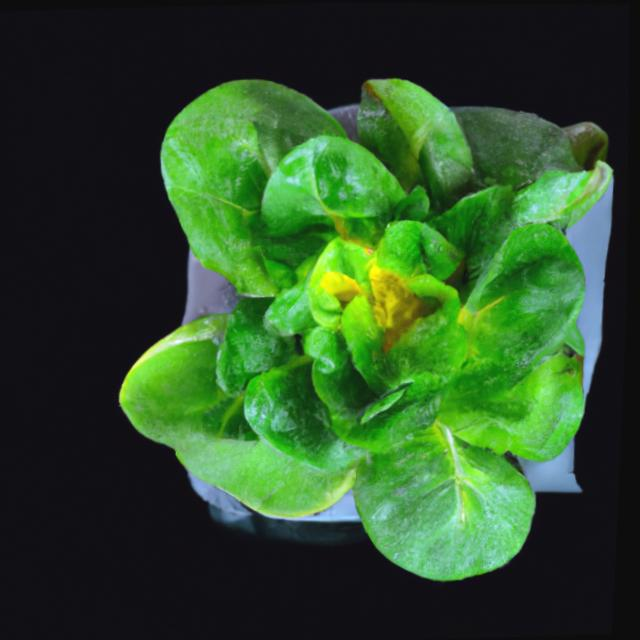-N: (82, 47, 638, 611)
